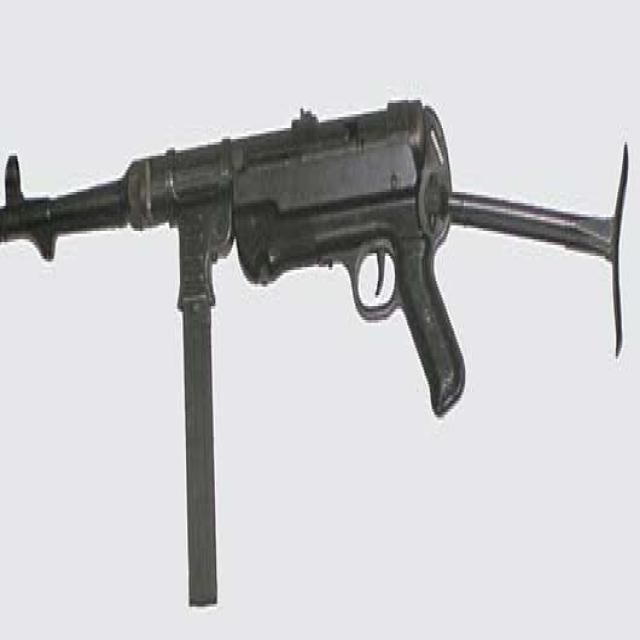Weapon: (0, 100, 627, 604)
